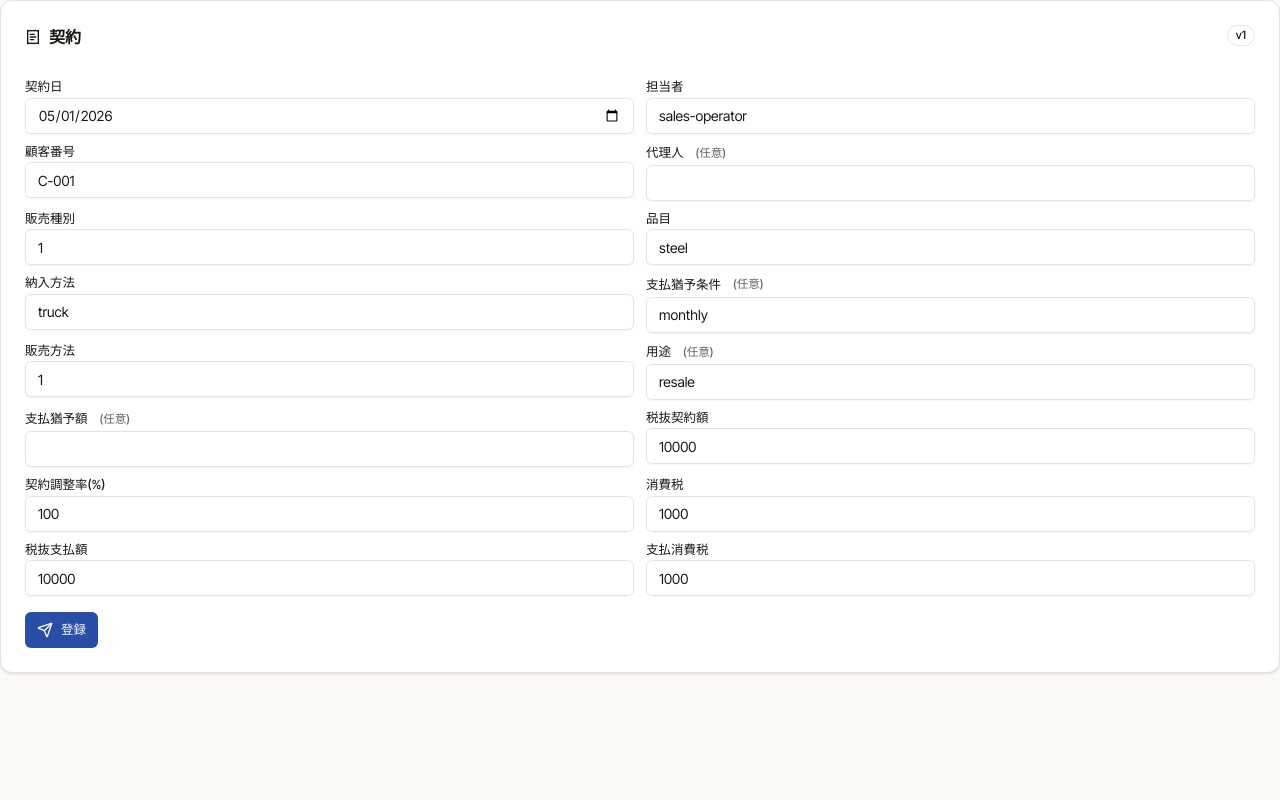
Test case: SalesContractForm (FE-COMP-RICH-SC-*) › FE-COMP-RICH-SC-002: 契約調整率 89 (範囲外) → field エラー、API 未呼出
Step 1. Replace the text in the number field labelled "契約調整率(%)" with "89" → coordinates (330, 514), box [25,496,634,532]
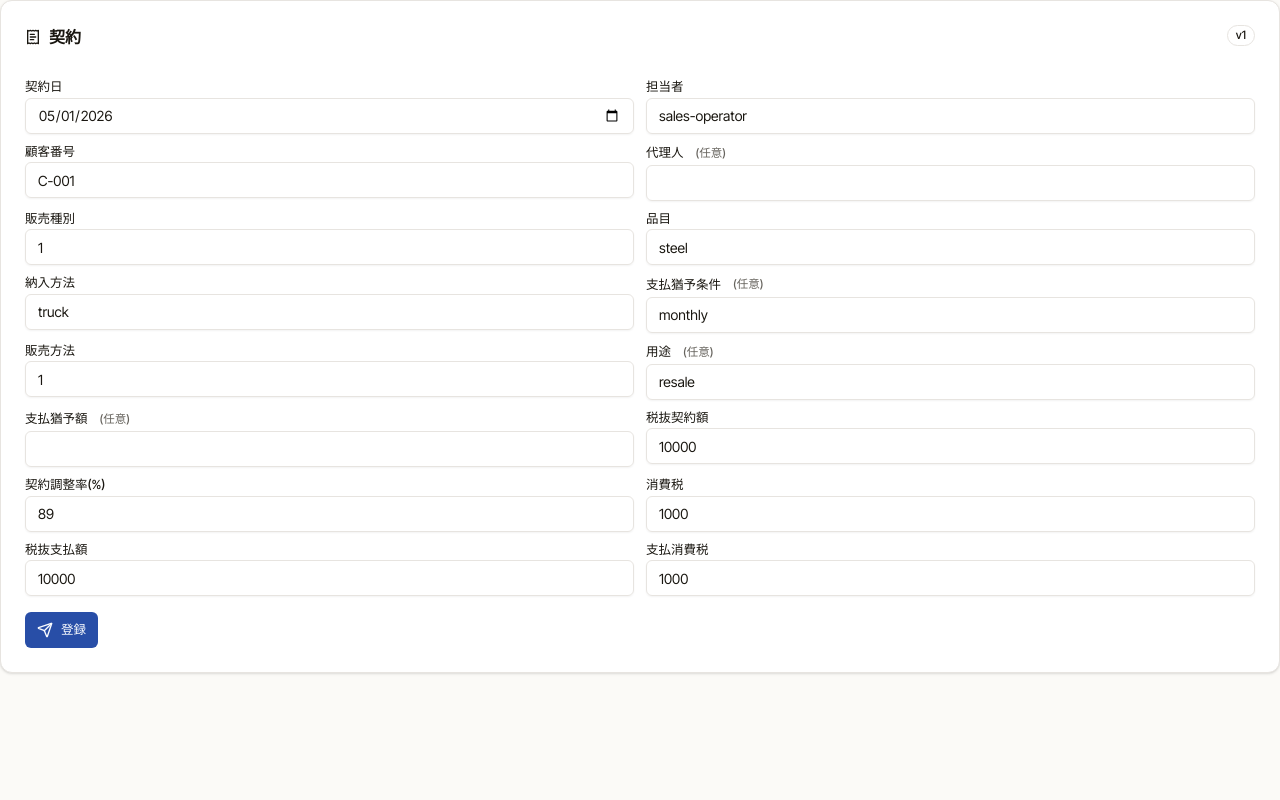
Step 2. Submit the form named "登録"
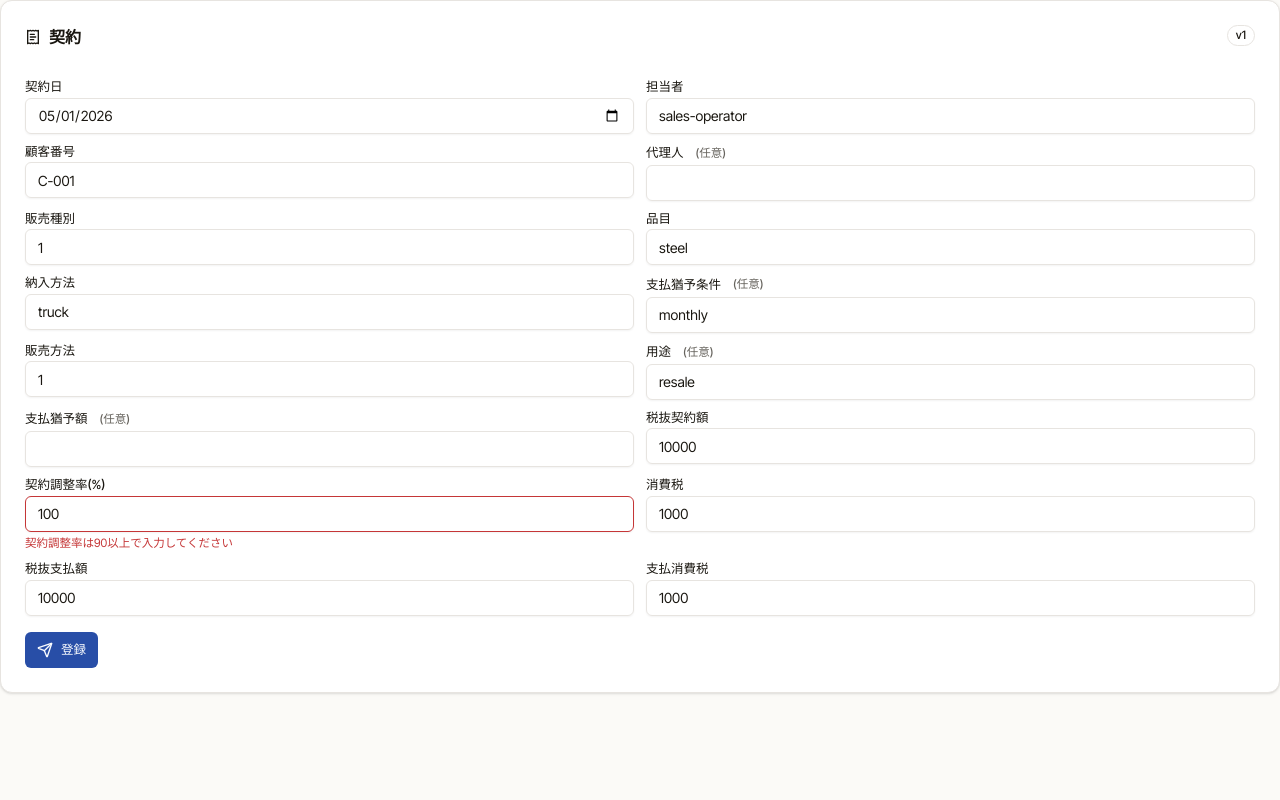
Expected: the text "契約調整率は90以上で入力してください" is shown, [25,536,233,550]
